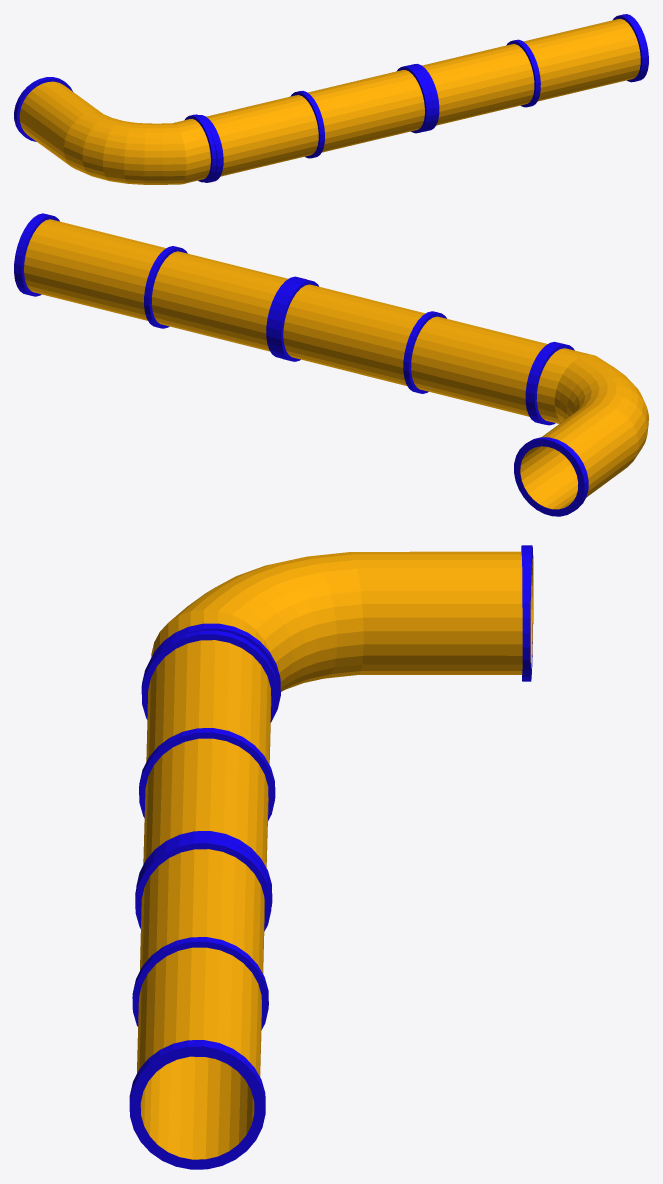
Rendered from TUNNEL.FBX.
3 renders of one model, top to bottom at view 1: azimuth 30°, elevation 25°; view 2: azimuth 150°, elevation 25°; view 3: azimuth 270°, elevation 25°, orthographic. The views are drawn at different scales.
Visible parts, largest first — view 1: Line001.001; view 2: Line001.001; view 3: Line001.001.
Boxes of the visible parts, x1,y1,x2,y2 form: Line001.001: [14, 14, 648, 184]; Line001.001: [14, 213, 648, 516]; Line001.001: [129, 545, 533, 1169].
Bounding box in the file's own units: 99.92 × 11.16 × 32.67.
